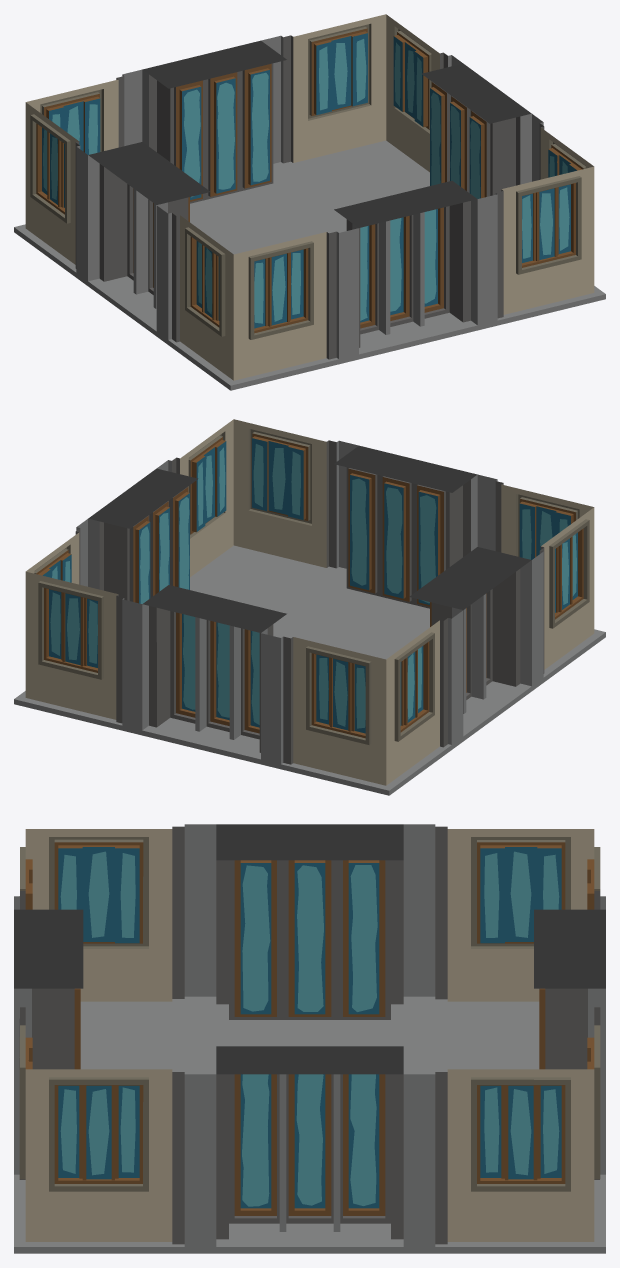
Rendered from Building_E_02.FBX.
3 views of the same model, one above another, from view 1: azimuth 30°, elevation 25°; view 2: azimuth 150°, elevation 25°; view 3: azimuth 270°, elevation 25° (orthographic). The views are drawn at different scales.
Visible parts, largest first — view 1: Building_E_02; view 2: Building_E_02; view 3: Building_E_02.
Boxes of the visible parts, x1,y1,x2,y2 form: Building_E_02: [14, 14, 605, 390]; Building_E_02: [14, 419, 605, 795]; Building_E_02: [14, 824, 605, 1253].
Size of the model in its own units: 5.08 by 1.7 by 5.08.
